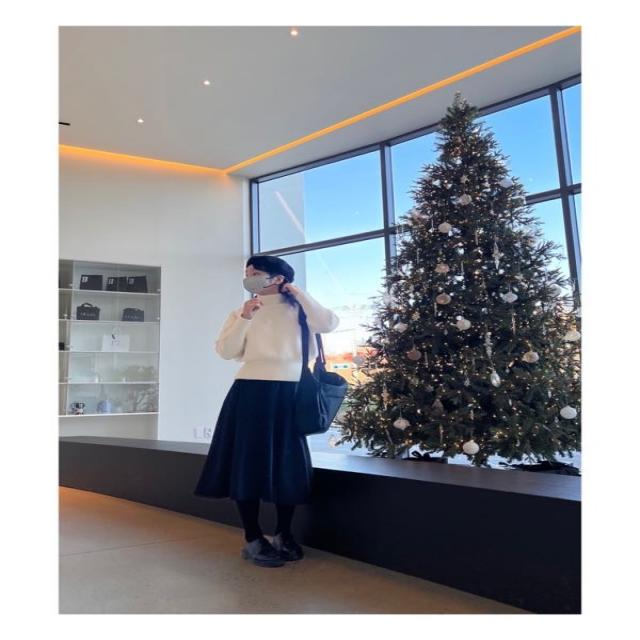skirt: (192, 378, 320, 507)
sweater: (219, 287, 336, 380)
